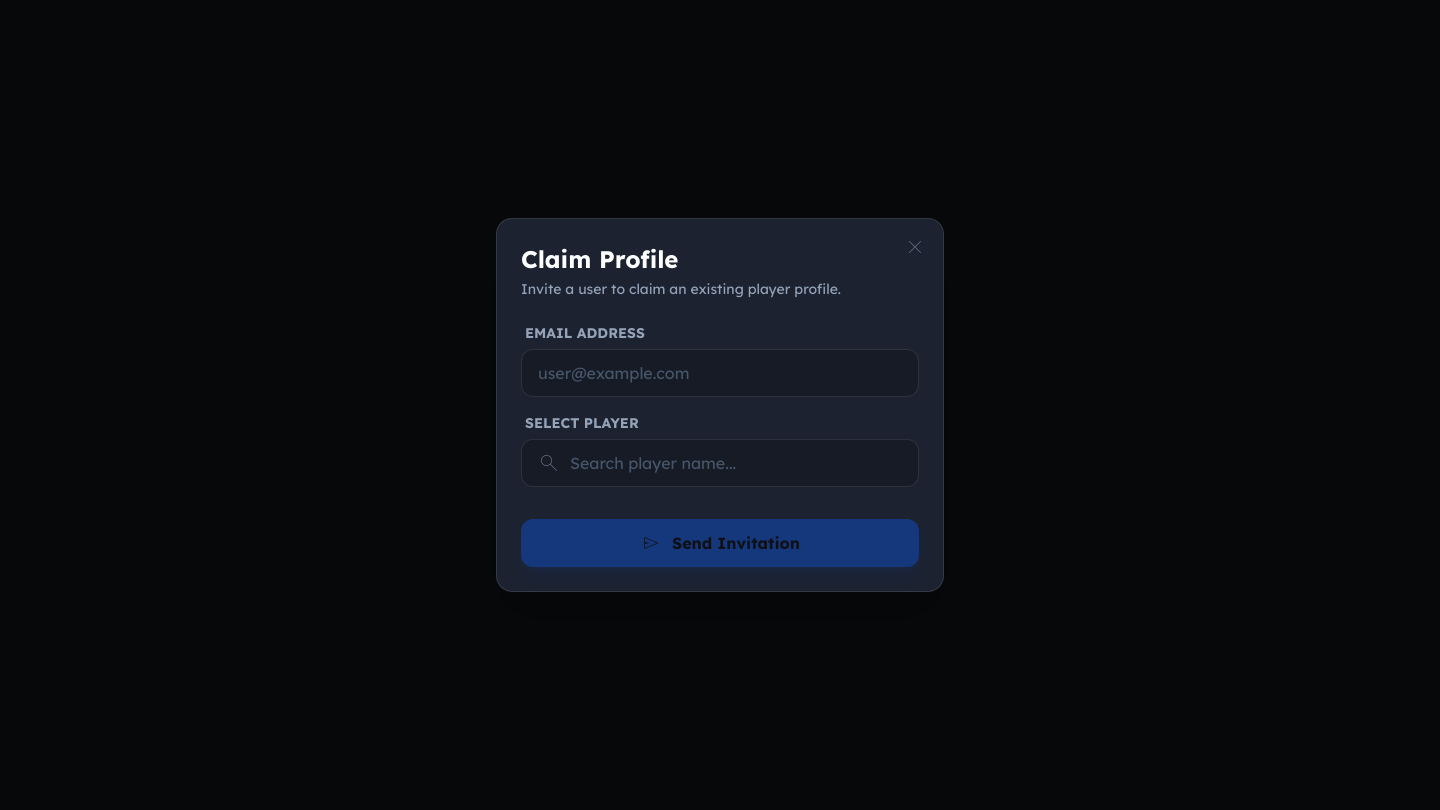
ClaimUserModal › handles API errors correctly
Note: Set up form
Type "test@example.com" into the field with placeholder "user@example.com" at (720,373), box left=521, top=349, right=919, bottom=397
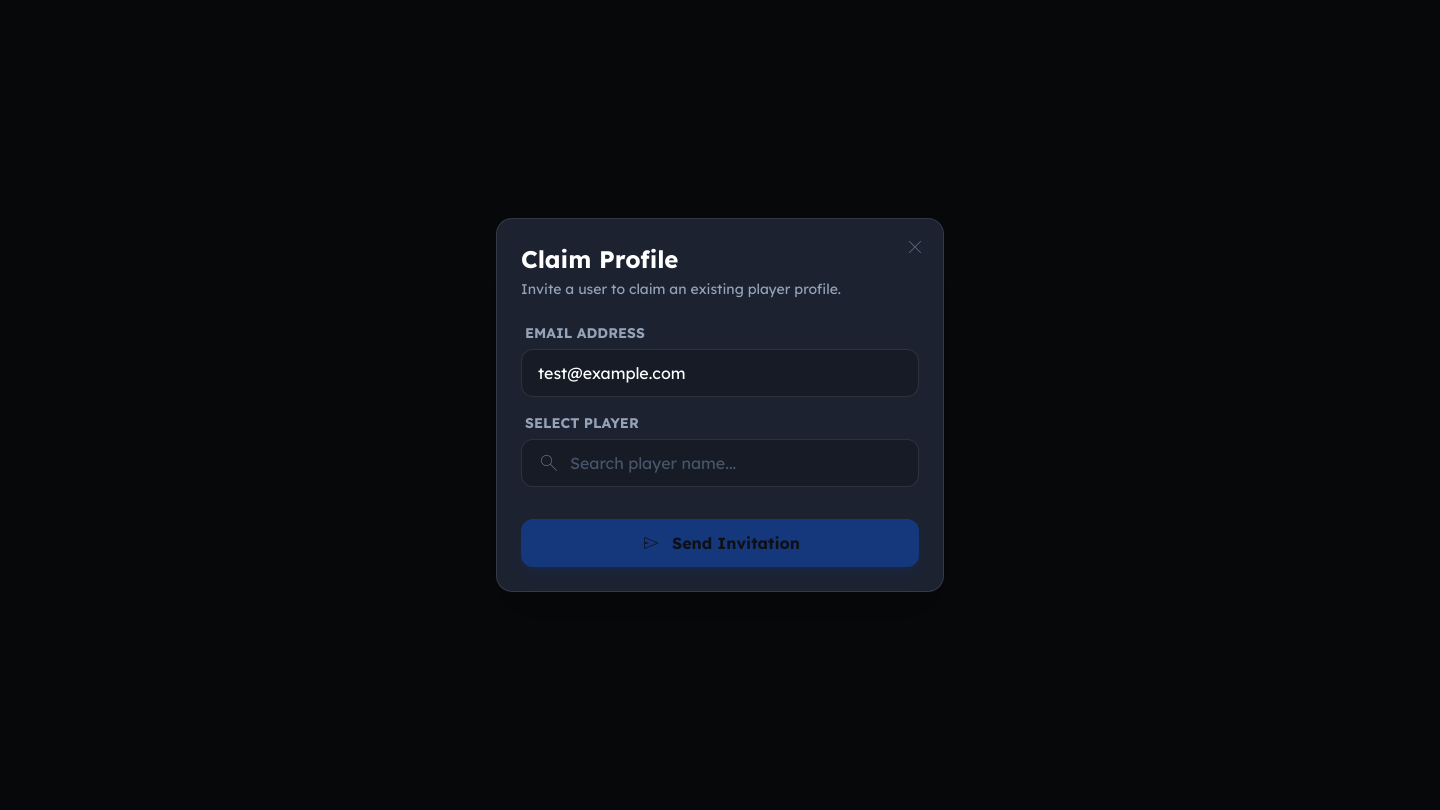
Type "John" into the field with placeholder "Search player name..." at (720,463), box left=521, top=439, right=919, bottom=487
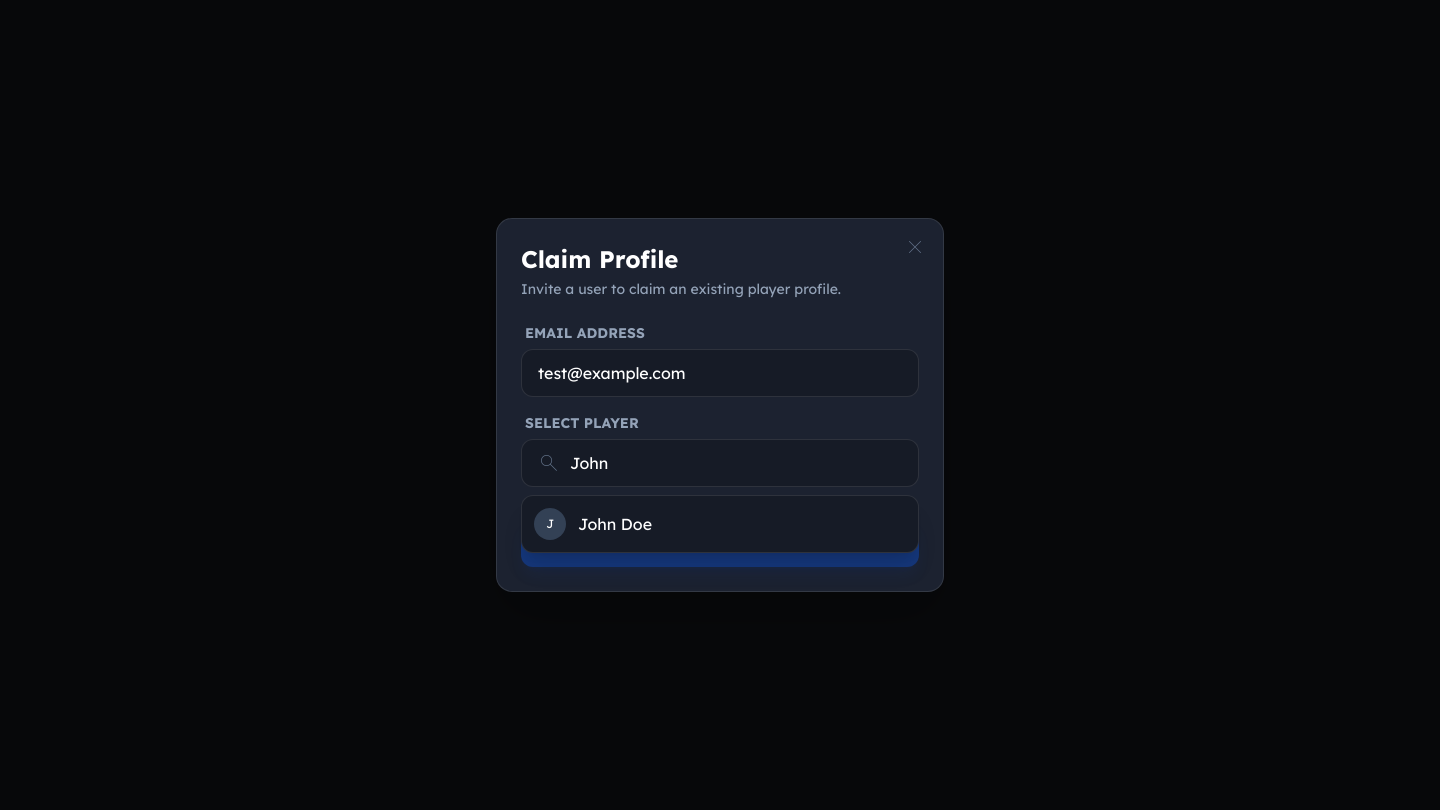
Click the text "John Doe" at (615,524), box left=578, top=512, right=652, bottom=536
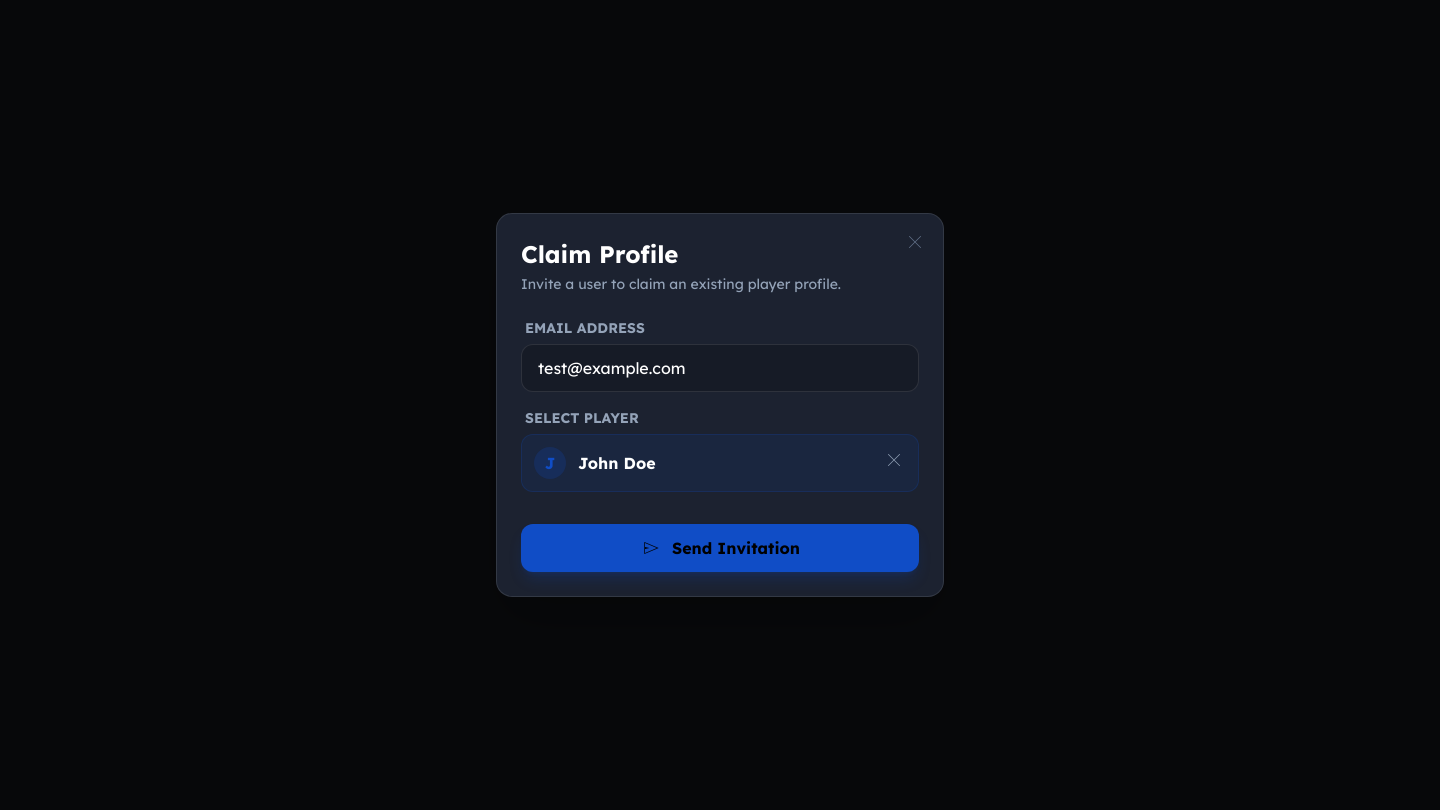
Click the button "Send Invitation" at (720,548), box left=521, top=524, right=919, bottom=572
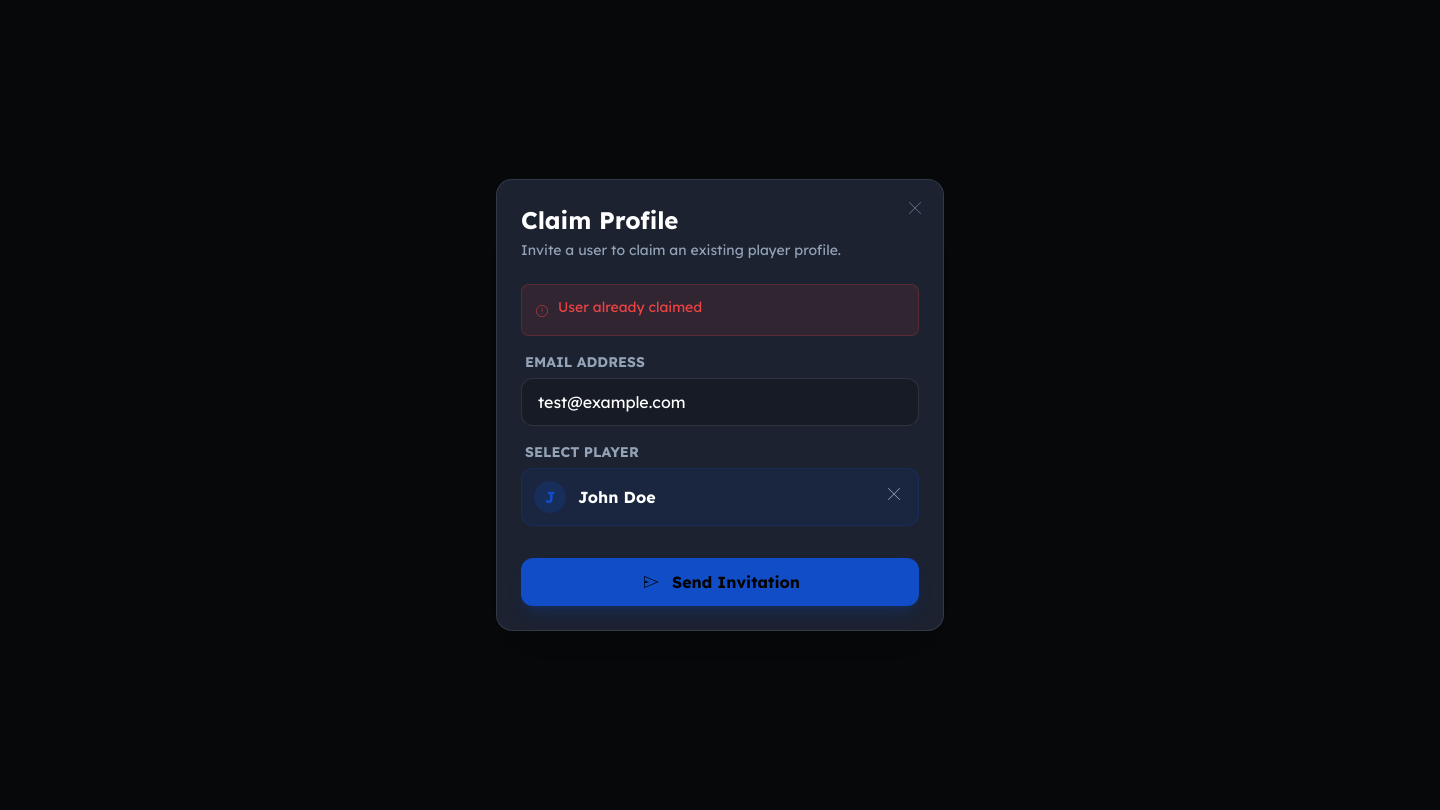
Expected: the text "User already claimed" is shown, left=521, top=284, right=919, bottom=336
